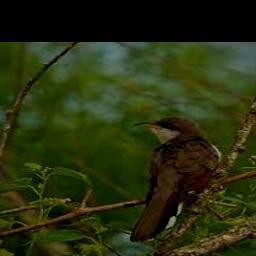Cuckoo: (129, 117, 223, 242)
